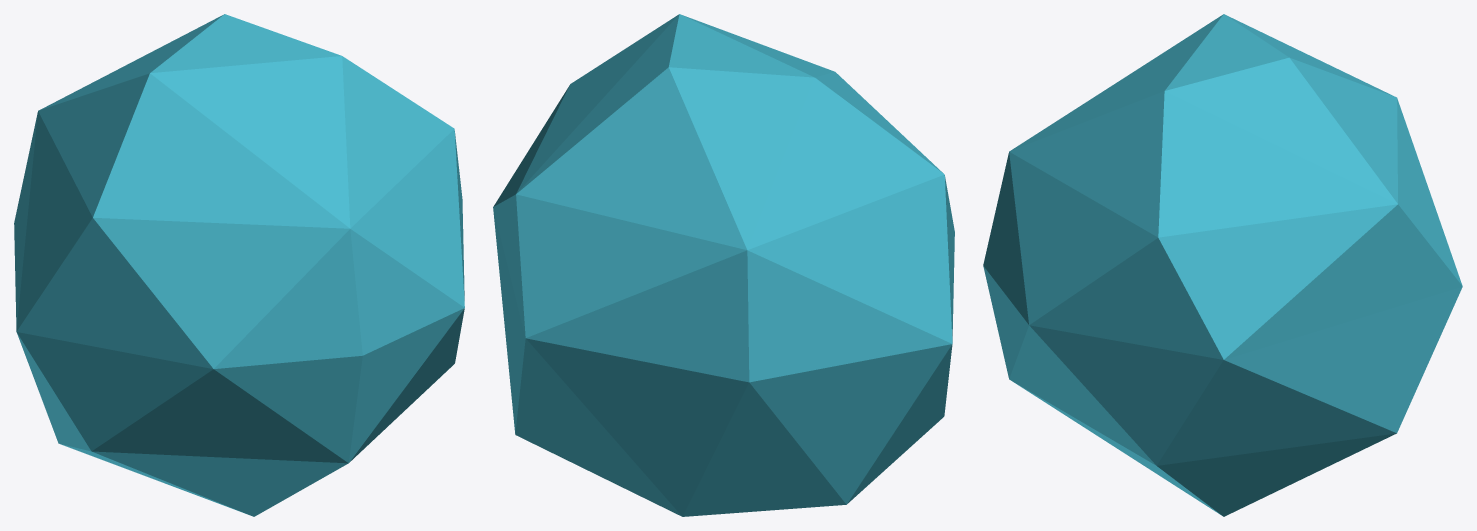
Rendered from ball.fbx.
3 renders of one model, left to right at view 1: azimuth 30°, elevation 25°; view 2: azimuth 150°, elevation 25°; view 3: azimuth 270°, elevation 25°, orthographic. The views are drawn at different scales.
Visible parts, largest first — view 1: Icosphere; view 2: Icosphere; view 3: Icosphere.
Part boxes in pixels (<box>): Icosphere: <box>14,14,464,516</box>; Icosphere: <box>493,14,954,516</box>; Icosphere: <box>983,14,1462,516</box>.
Bounding box in the file's own units: 209 × 199 × 199.
